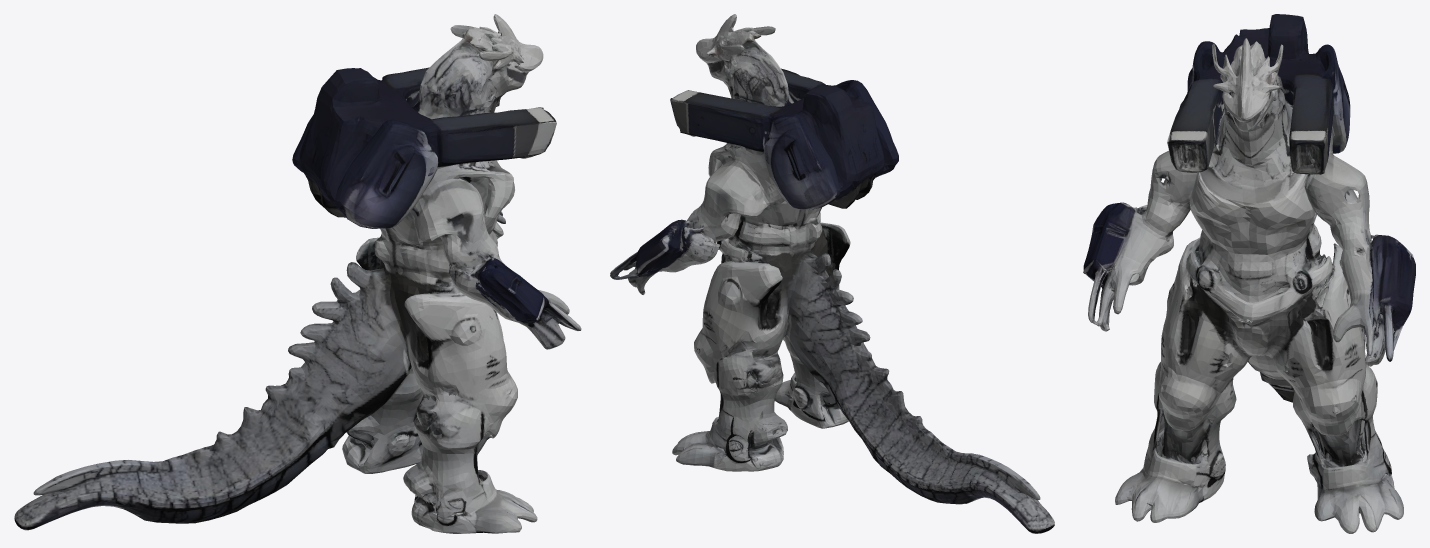
Rendered from GOZIRA.obj.
3 views of the same model, side by side, from view 1: azimuth 30°, elevation 25°; view 2: azimuth 150°, elevation 25°; view 3: azimuth 270°, elevation 25° (orthographic). The views are drawn at different scales.
Parts seen in each view (by area): view 1: tripo_node_7a61f2c2-1ad9-47c5-86e4-8605db9d04da; view 2: tripo_node_7a61f2c2-1ad9-47c5-86e4-8605db9d04da; view 3: tripo_node_7a61f2c2-1ad9-47c5-86e4-8605db9d04da.
Boxes of the visible parts, <box> form: tripo_node_7a61f2c2-1ad9-47c5-86e4-8605db9d04da: <box>14,14,581,533</box>; tripo_node_7a61f2c2-1ad9-47c5-86e4-8605db9d04da: <box>610,14,1054,533</box>; tripo_node_7a61f2c2-1ad9-47c5-86e4-8605db9d04da: <box>1083,14,1415,533</box>.
Size of the model in its own units: 0.9946 by 0.8903 by 0.5492.
1 material, 1 textured.
